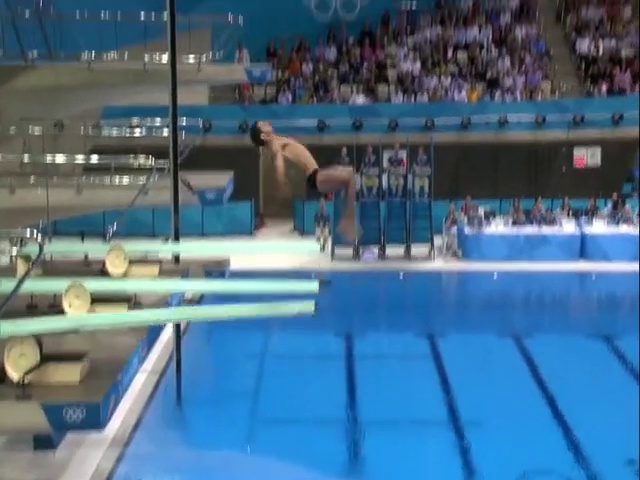diver: (250, 120, 358, 240)
